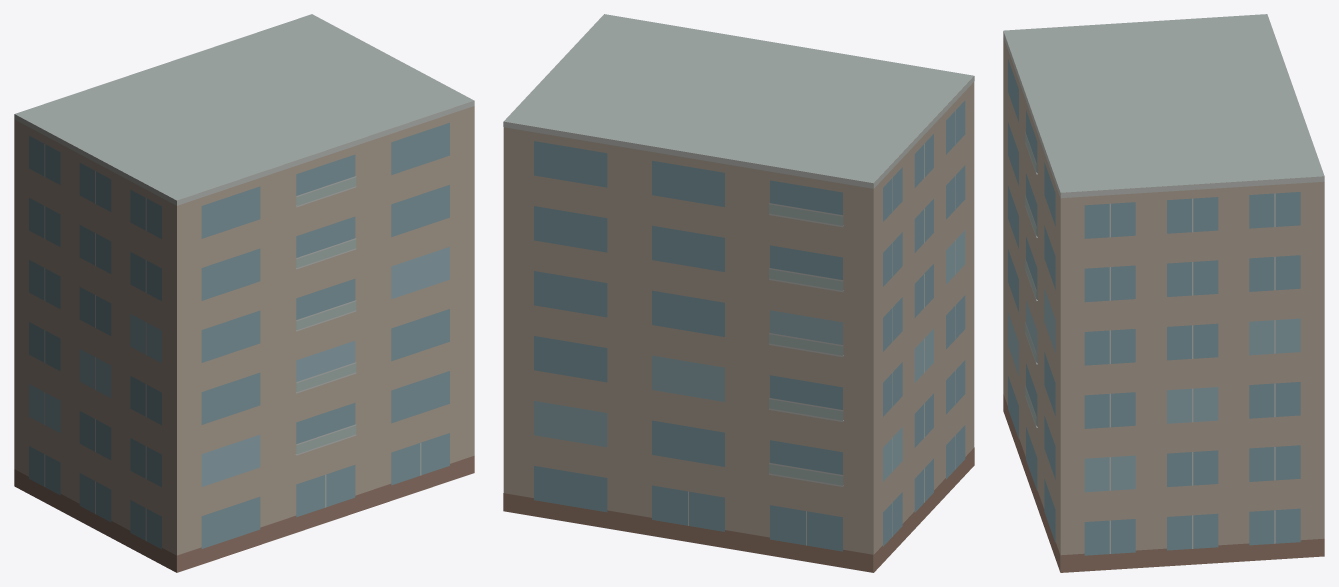
The model's file is survey-upis-32715413.glb.
3 renders of one model, left to right at view 1: azimuth 30°, elevation 25°; view 2: azimuth 150°, elevation 25°; view 3: azimuth 270°, elevation 25°, orthographic. The views are drawn at different scales.
Parts seen in each view (by area): view 1: survey-upis-32715413.tmp; view 2: survey-upis-32715413.tmp; view 3: survey-upis-32715413.tmp.
Boxes of the visible parts, bbox=[...] form: survey-upis-32715413.tmp: bbox=[14, 14, 474, 572]; survey-upis-32715413.tmp: bbox=[503, 14, 974, 572]; survey-upis-32715413.tmp: bbox=[1003, 14, 1324, 572].
Bounding box in the file's own units: 17.26 × 17.1 × 13.11.
